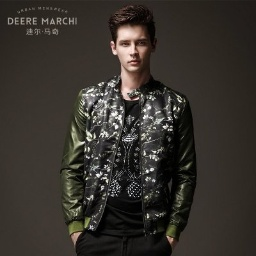face: (108, 5, 158, 73)
